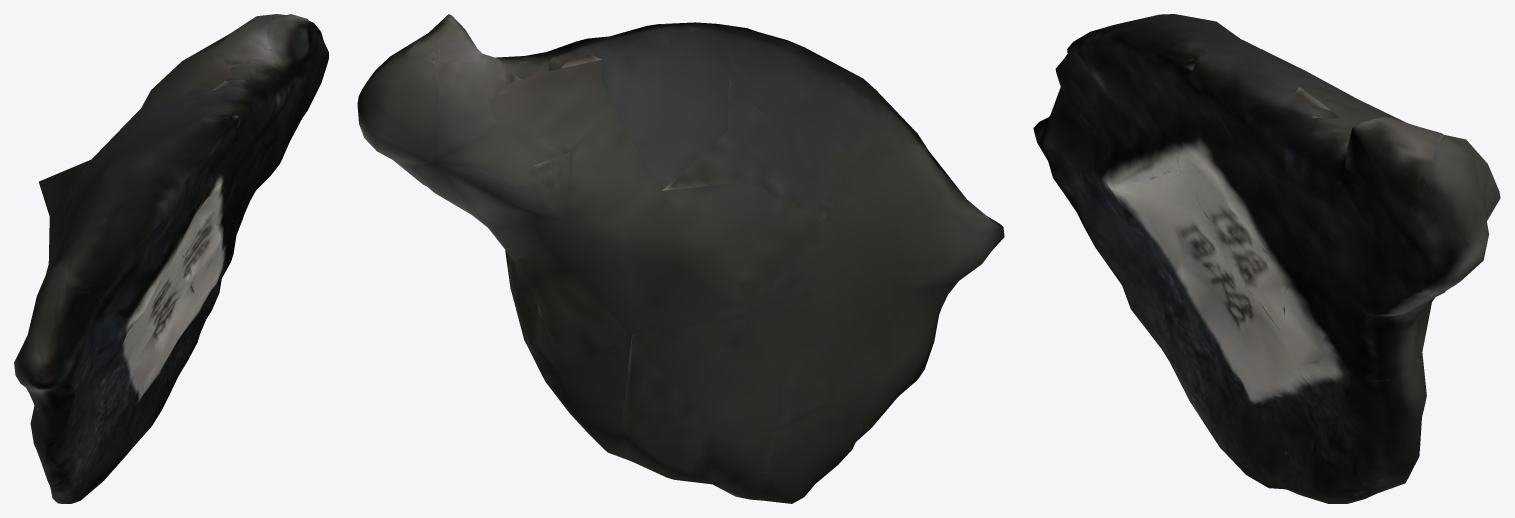
The model's file is hall.glb.
The picture shows the model from 3 angles, left to right: view 1: azimuth 30°, elevation 25°; view 2: azimuth 150°, elevation 25°; view 3: azimuth 270°, elevation 25°; orthographic projection. The views are drawn at different scales.
Size of the model in its own units: 0.3454 by 0.3003 by 0.2362.
Materials: 1 (1 with a texture image).
